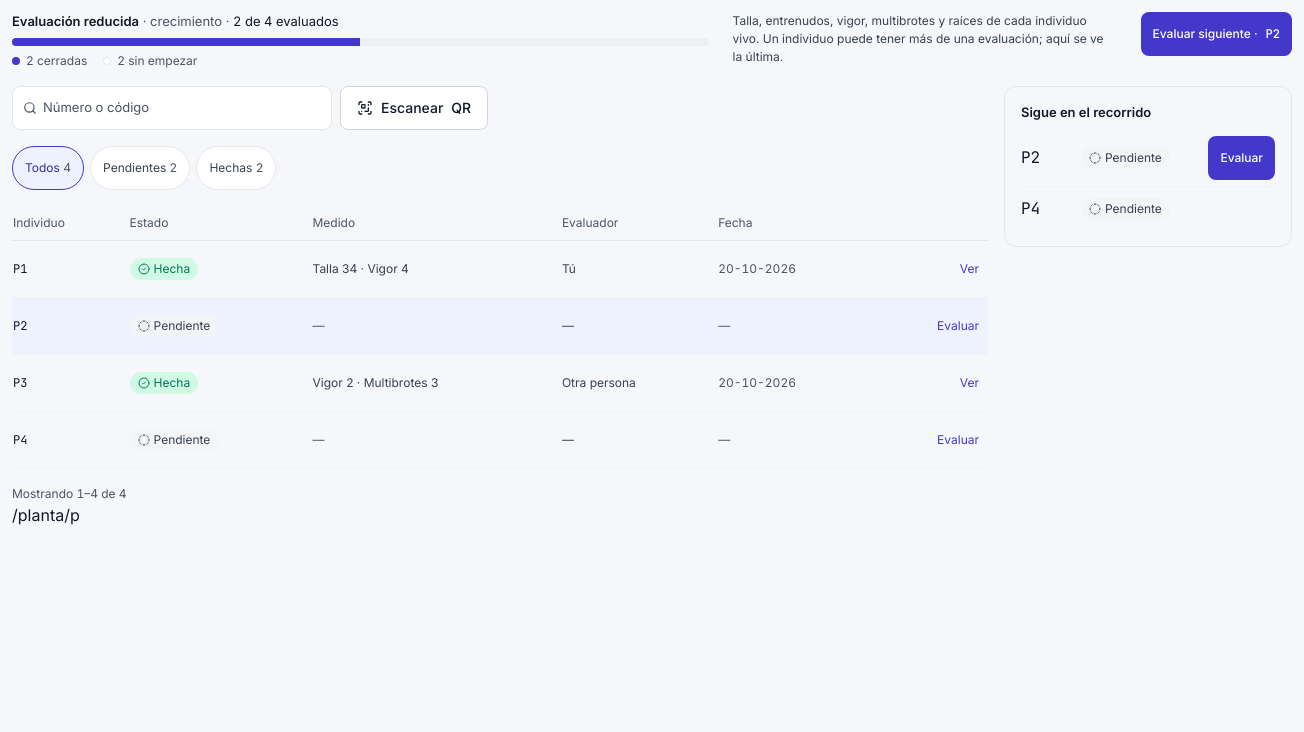
Test case: «Evaluar siguiente» abre la pantalla completa del primer pendiente por número de planta
This screenshot has width=1304, height=732.
Click the button "Evaluar siguiente · P2" at (1216, 34), box [1140, 12, 1292, 56]
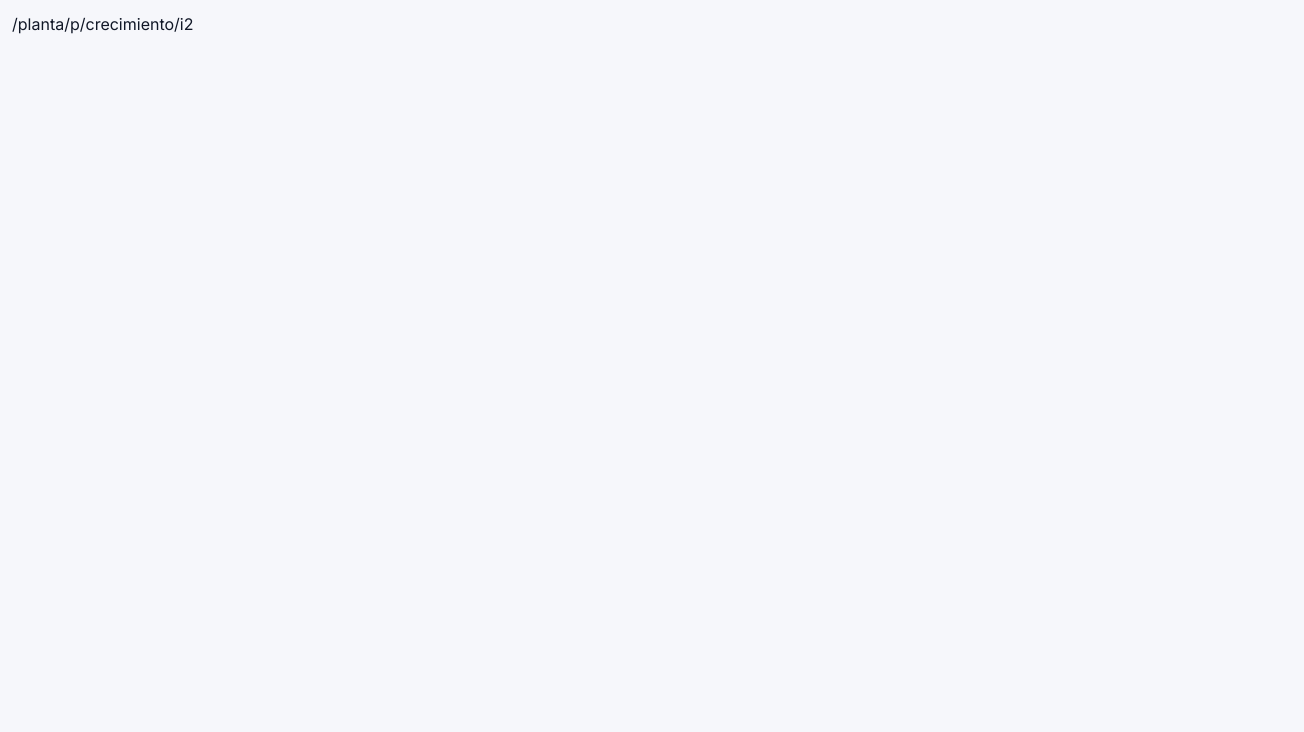
Expected: the text with test id "ruta" reads "/planta/p/crecimiento/i2", [12, 14, 194, 34]
